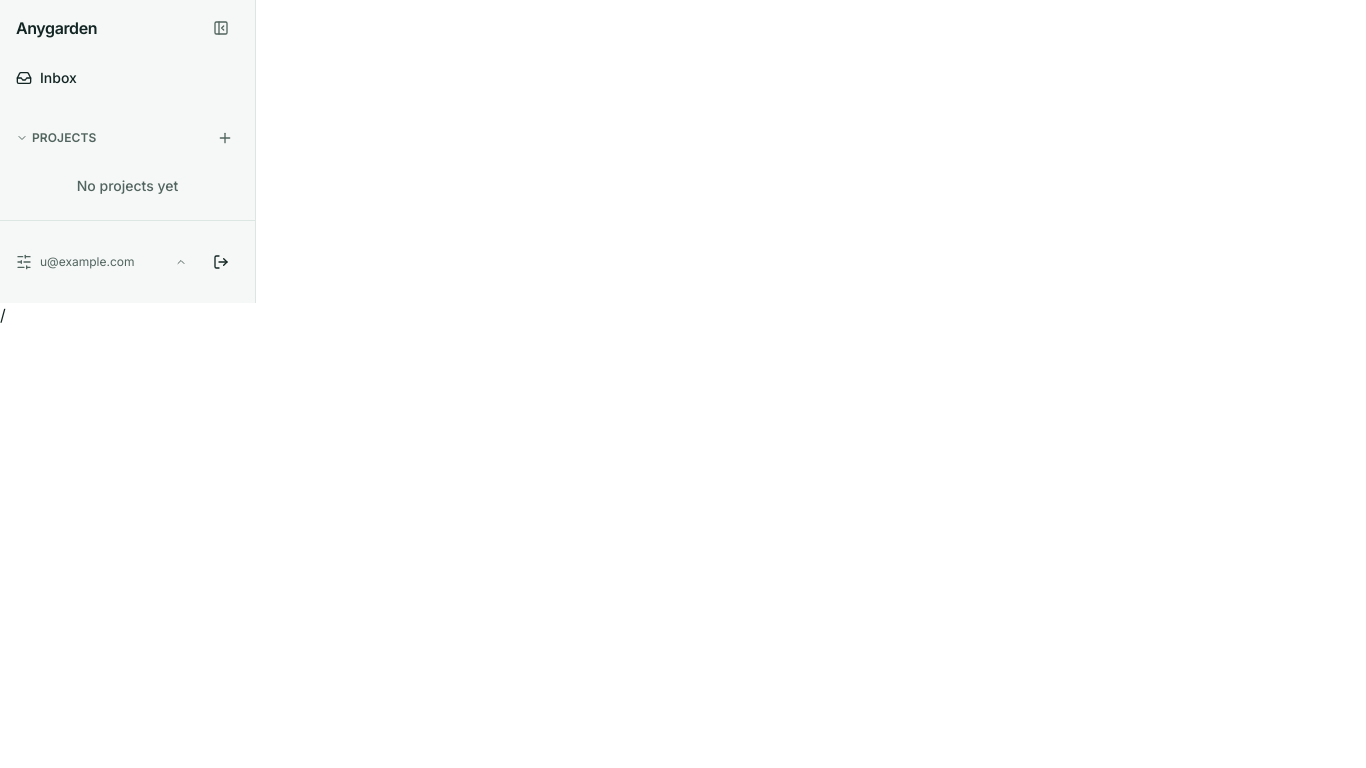
Test: Sidebar — layout (#827) › creates projects from the projects section header, not a bottom button
The image size is (1366, 768).
Expected: the button "Projects" is shown, [8,116,199,160]
Click the button with test id "sidebar-add-project".
click(225, 138)  # box [203,116,247,160]
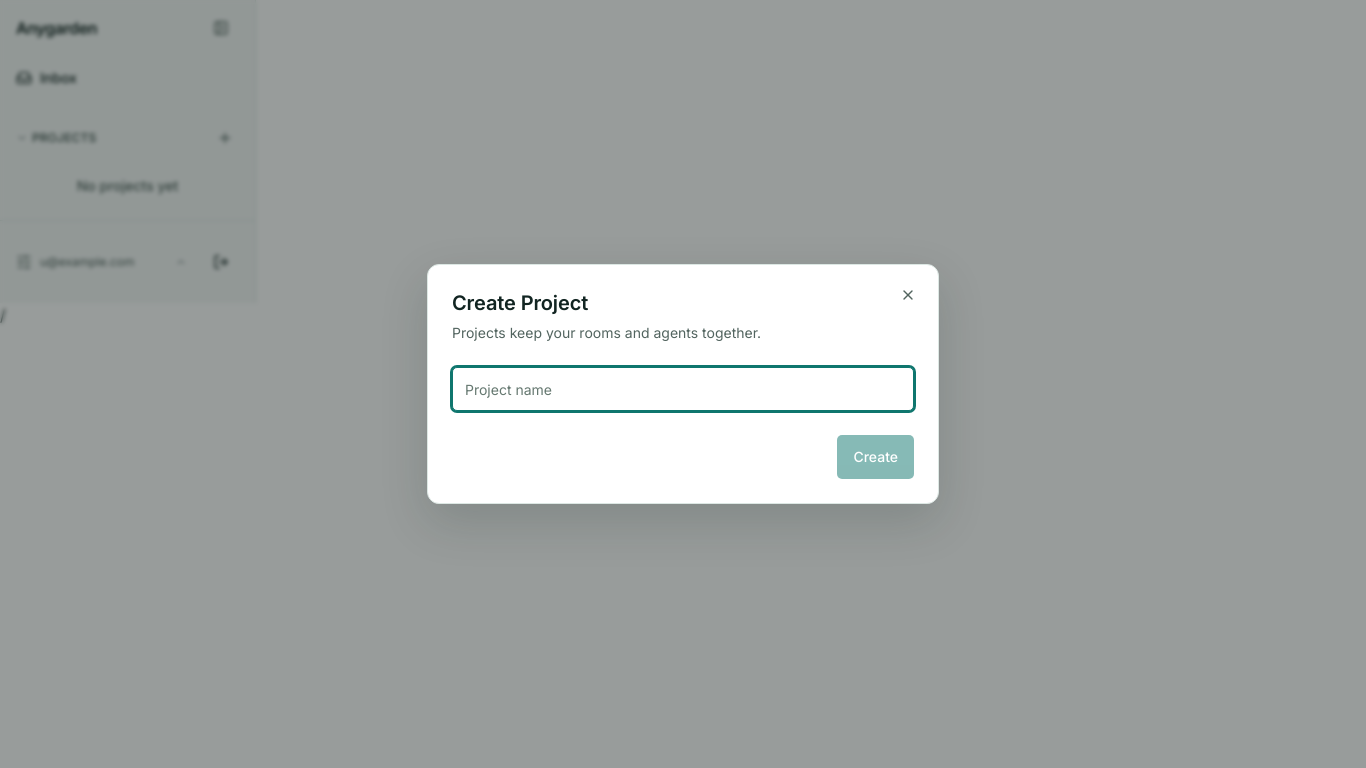
Now the dialog shows "Create Project", box [452,291,588,315]
